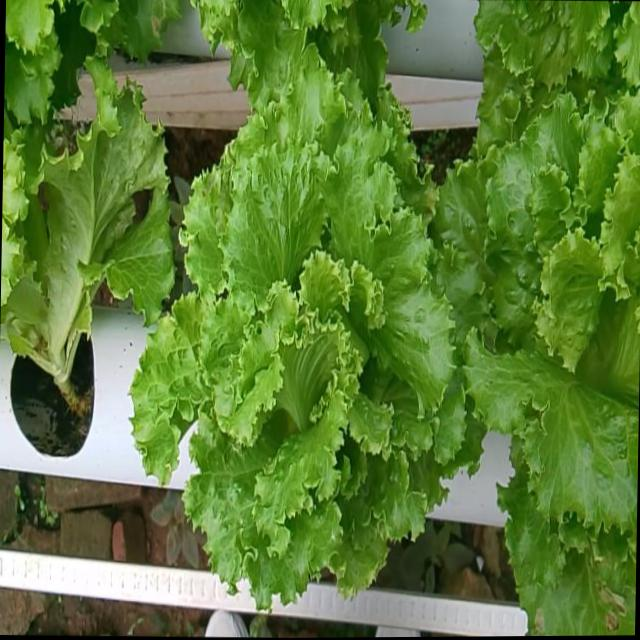Mature: (138, 78, 473, 617), (442, 101, 640, 544)
